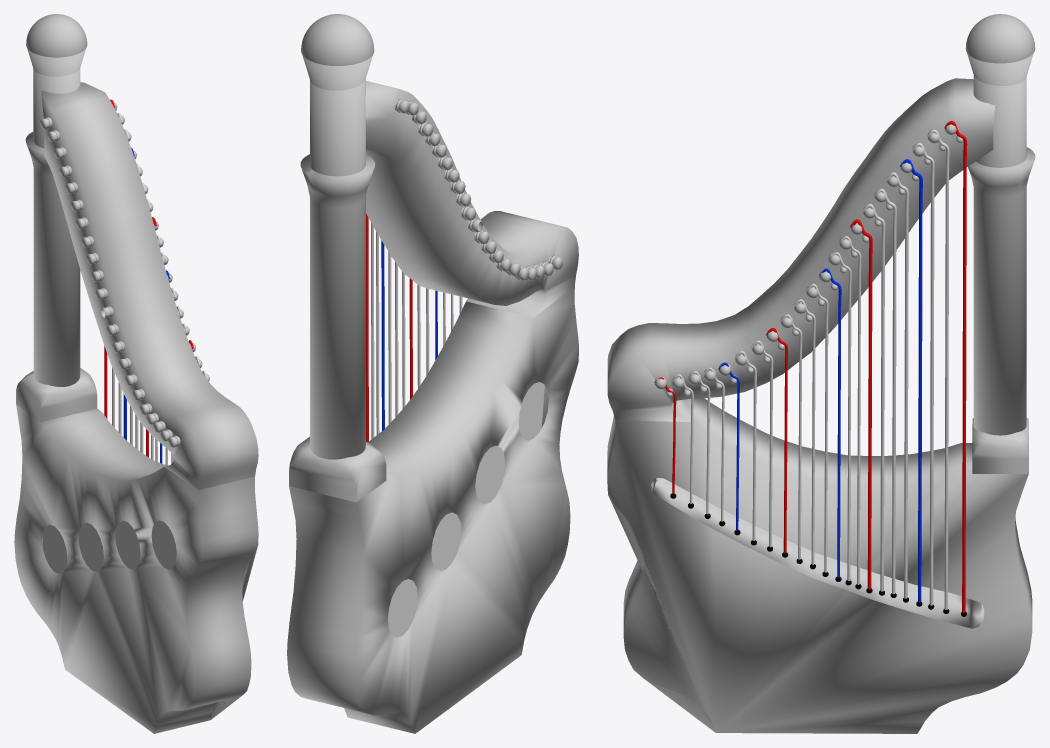
File: Lyre.fbx
The picture shows the model from 3 angles, left to right: view 1: azimuth 30°, elevation 25°; view 2: azimuth 150°, elevation 25°; view 3: azimuth 270°, elevation 25°; orthographic projection. The views are drawn at different scales.
Visible parts, largest first — view 1: Base, Black, Pins, Strings; view 2: Base, Strings, Black, Pins; view 3: Base, Strings, Pins.
Part boxes in pixels (x1,y1,x2,y2): Base: [14, 14, 258, 733]; Black: [42, 520, 176, 573]; Pins: [40, 102, 209, 447]; Strings: [104, 99, 207, 465]; Base: [287, 14, 578, 733]; Strings: [366, 214, 462, 441]; Black: [387, 382, 544, 637]; Pins: [394, 99, 562, 280]; Base: [607, 14, 1035, 733]; Strings: [654, 120, 967, 616]; Pins: [654, 122, 962, 397].
Size of the model in its own units: 55.29 by 439 by 243.
